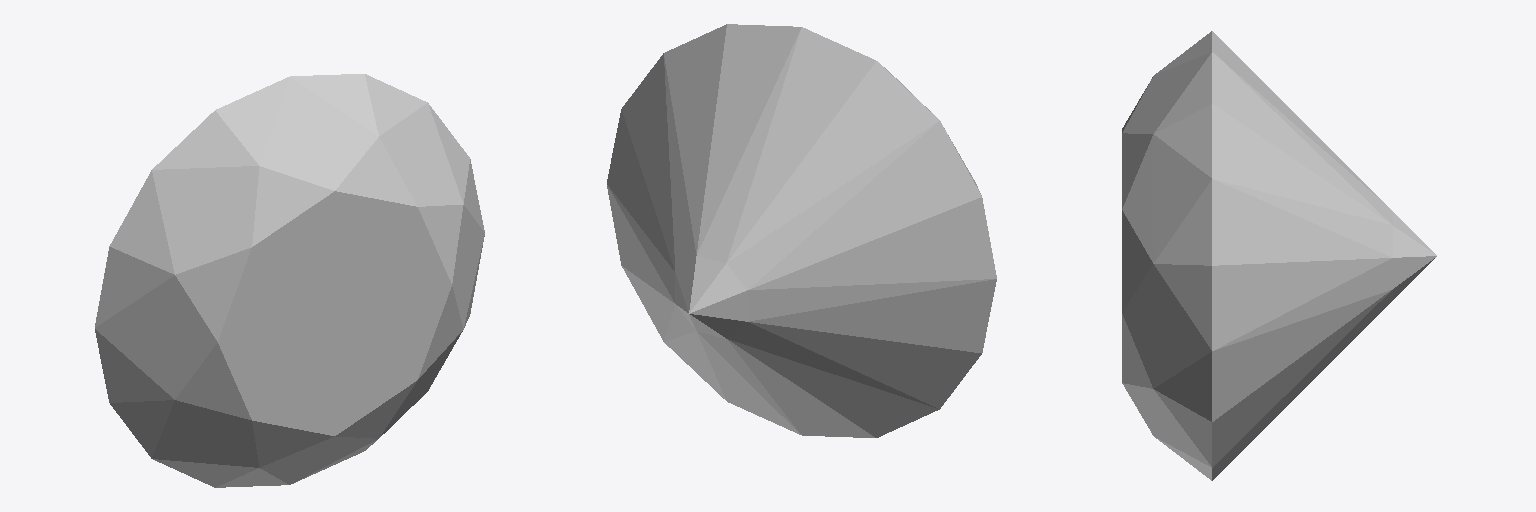
Rendered from stone1.obj.
3 views of the same model, side by side, from view 1: azimuth 30°, elevation 25°; view 2: azimuth 150°, elevation 25°; view 3: azimuth 270°, elevation 25° (orthographic).
Parts seen in each view (by area): view 1: JewelCAD; view 2: JewelCAD; view 3: JewelCAD.
Boxes of the visible parts, box(x1,y1,x2,y2) form: JewelCAD: box(95, 74, 484, 487); JewelCAD: box(607, 24, 996, 437); JewelCAD: box(1122, 31, 1436, 480).
Bounding box in the file's own units: 6.52 × 6.52 × 4.57.